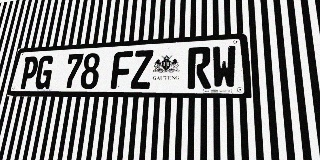7: (62, 54, 84, 89)
8: (79, 53, 102, 89)
F: (110, 51, 133, 89)
G: (34, 55, 55, 89)
P: (18, 56, 40, 89)
R: (187, 46, 211, 89)
W: (212, 45, 237, 89)
Z: (130, 50, 154, 89)
